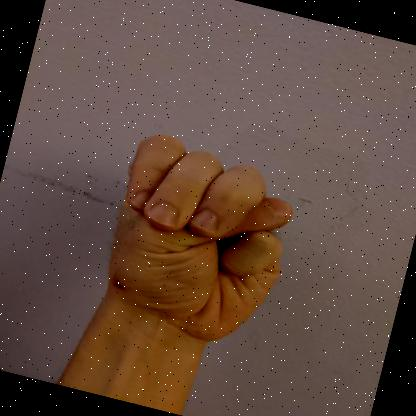M: (93, 135, 292, 344)
